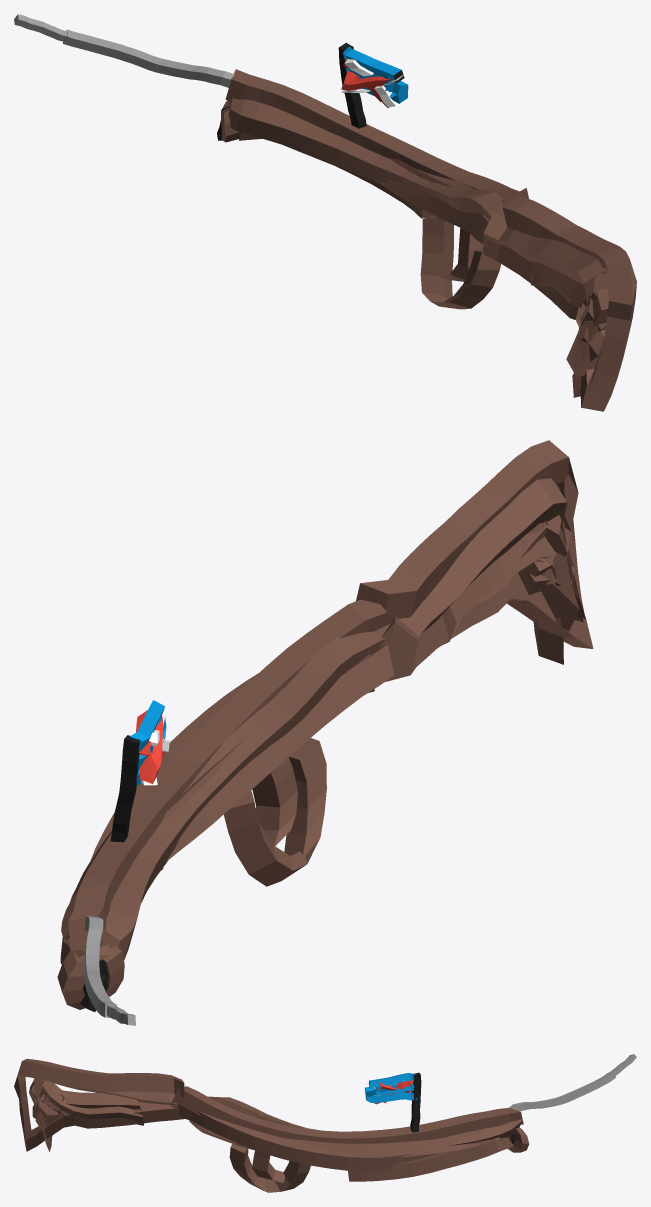
The picture shows the model from 3 angles, top to bottom: view 1: azimuth 30°, elevation 25°; view 2: azimuth 150°, elevation 25°; view 3: azimuth 270°, elevation 25°; orthographic projection. The views are drawn at different scales.
Visible parts, largest first — view 1: group_1259750870, group_1469615340, group_608665861, group_182746416, group_576653618, group_624562476, group_84041863, group_1951926940, group_1977375434; view 2: group_1259750870, group_1469615340, group_608665861, group_576653618, group_1990964940, group_84041863, group_182746416, group_1977375434; view 3: group_1259750870, group_1469615340, group_608665861, group_182746416, group_576653618, group_84041863, group_1844103866, group_624562476, group_1990964940, group_817109960.
Part boxes in pixels (x1,y1,x2,y2): group_1259750870: [225, 69, 519, 244]; group_1469615340: [483, 187, 636, 411]; group_608665861: [420, 215, 501, 309]; group_182746416: [63, 29, 234, 87]; group_576653618: [438, 228, 483, 281]; group_624562476: [343, 46, 404, 83]; group_84041863: [338, 42, 366, 128]; group_1951926940: [14, 14, 66, 41]; group_1977375434: [341, 71, 391, 90]; group_1259750870: [60, 599, 394, 964]; group_1469615340: [356, 440, 593, 681]; group_608665861: [223, 738, 326, 886]; group_576653618: [252, 757, 297, 847]; group_1990964940: [57, 945, 124, 1009]; group_84041863: [110, 735, 139, 842]; group_182746416: [84, 915, 116, 1017]; group_1977375434: [136, 710, 163, 783]; group_1259750870: [172, 1086, 523, 1181]; group_1469615340: [14, 1059, 188, 1151]; group_608665861: [229, 1144, 310, 1192]; group_182746416: [509, 1072, 615, 1111]; group_576653618: [252, 1150, 284, 1182]; group_84041863: [410, 1072, 421, 1132]; group_1844103866: [364, 1087, 417, 1102]; group_624562476: [369, 1073, 415, 1088]; group_1990964940: [507, 1127, 529, 1152]; group_817109960: [375, 1084, 414, 1095].
Bounding box in the file's own units: 70.46 × 56.66 × 252.
